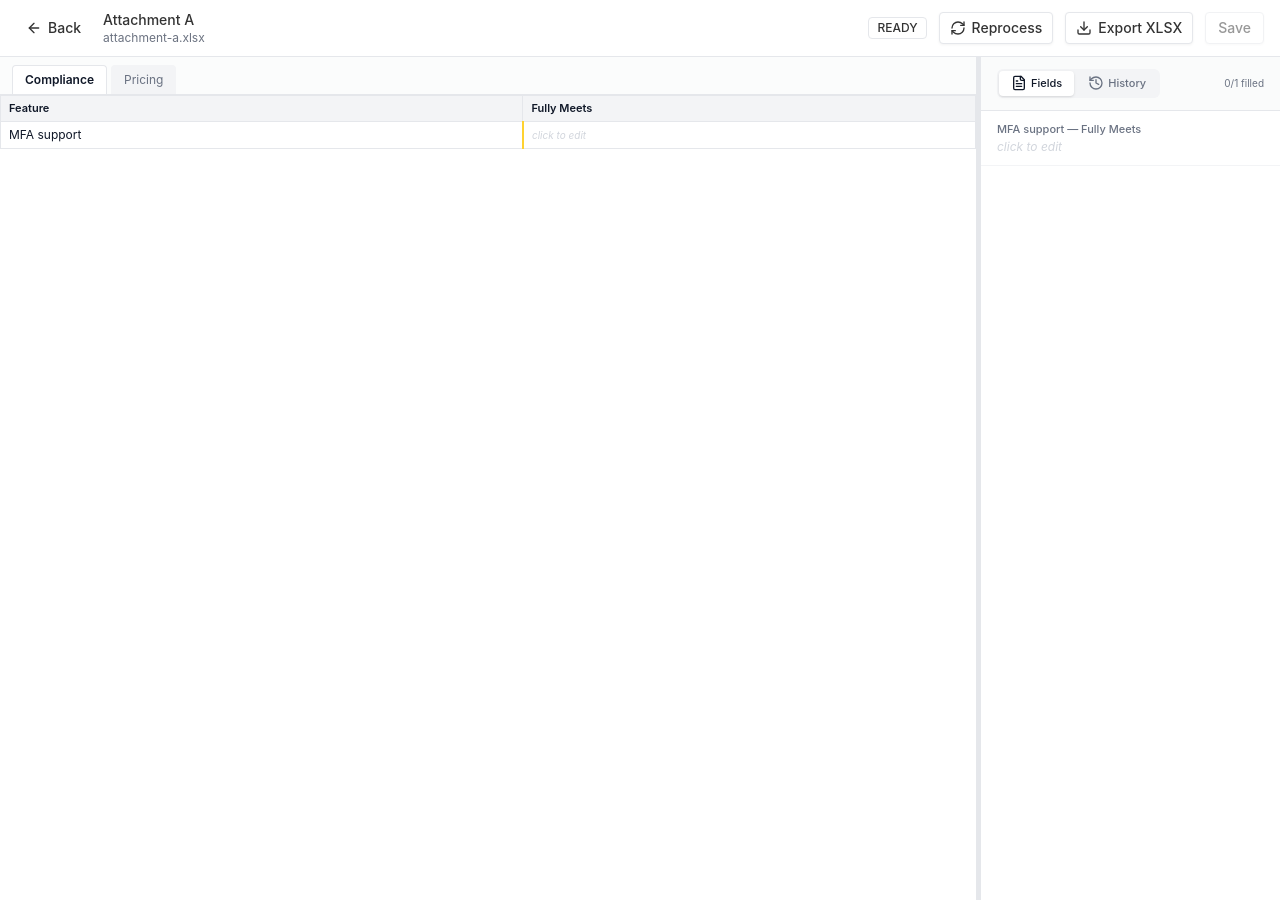
Test: XlsxFormEditor — multipage support › renders a tab per data sheet when more than one sheet owns fields
Check: the button "Compliance" is shown, box [12,65,107,94]
Check: the text "MFA support — Fully Meets" is shown, box [997,120,1141,137]
Note: Switch to Pricing: now its field shows and Compliance's is hidden.
Click the button "Pricing" at [144, 80], box [111,65,176,94]
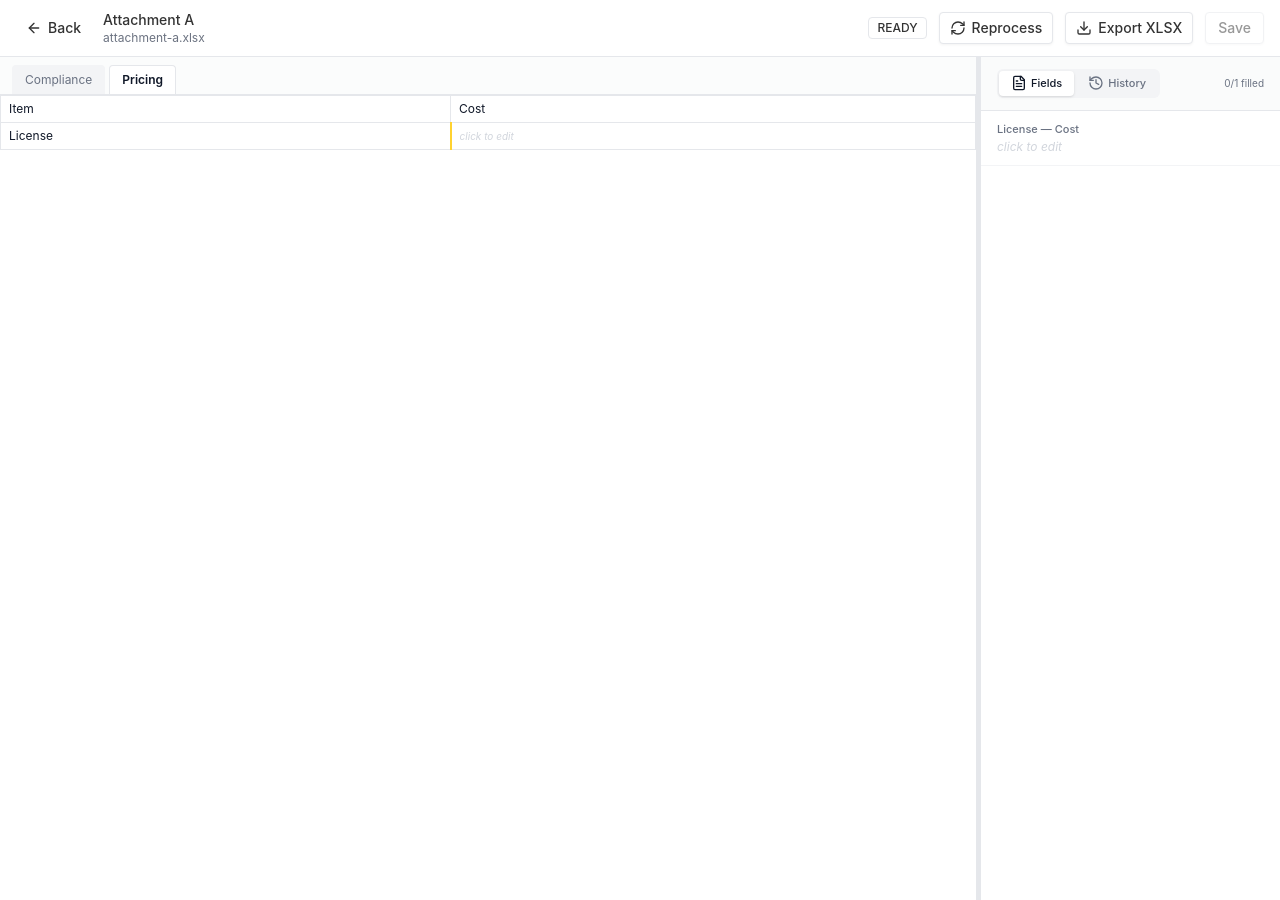
Check: the text "License — Cost" is shown, box [997,120,1079,137]
Check: the text "MFA support — Fully Meets" is gone
